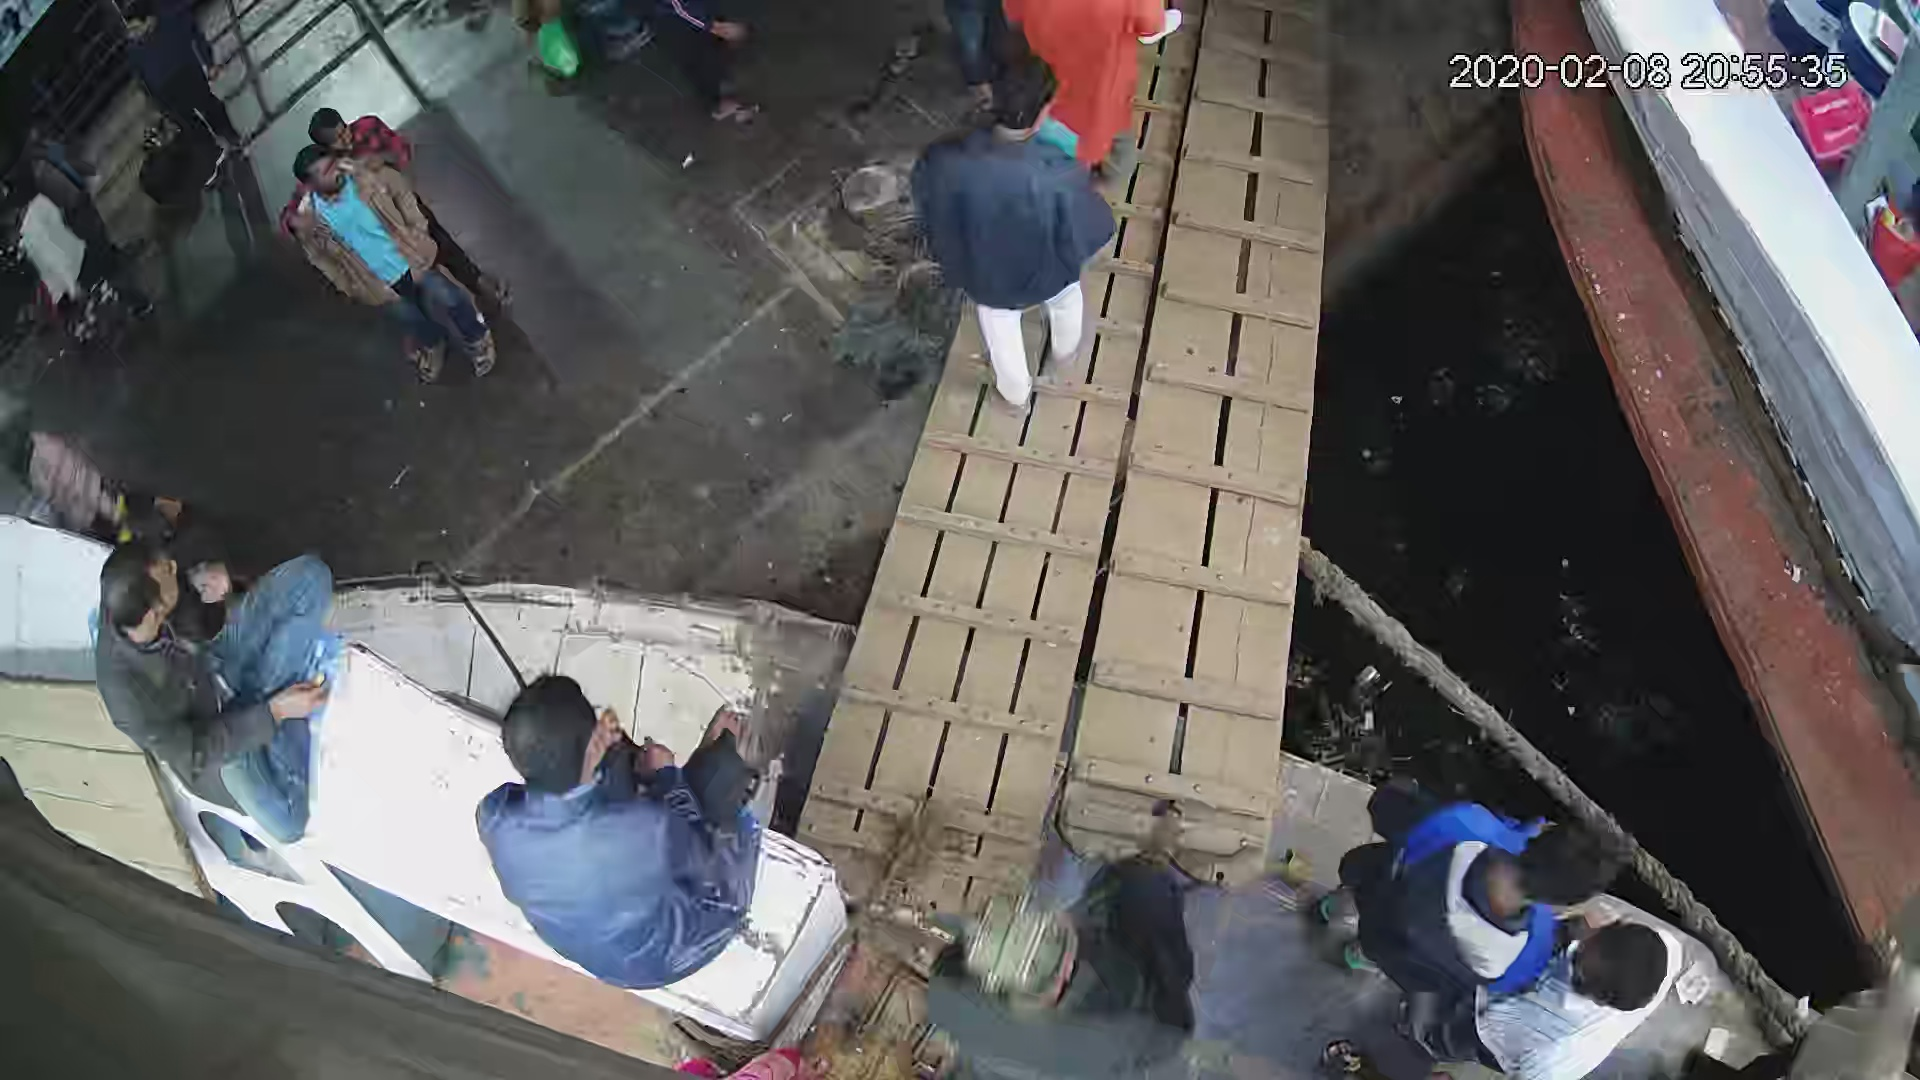person: (467, 671, 772, 1000), (89, 532, 341, 853), (904, 54, 1109, 422), (1308, 782, 1614, 1006), (282, 137, 514, 386), (909, 894, 1213, 1060), (1006, 1, 1165, 176), (114, 3, 256, 190), (1558, 901, 1684, 1073)
